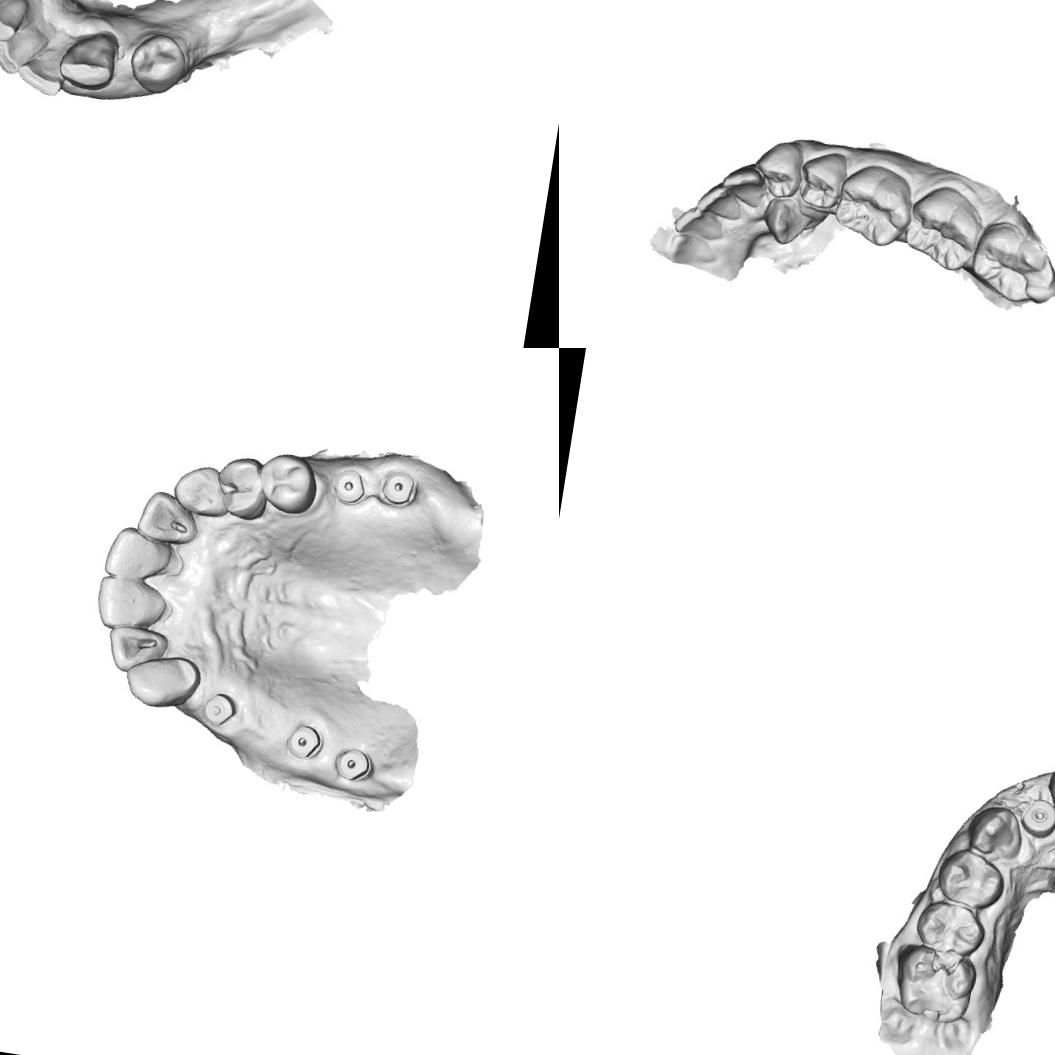canine: (120, 648, 202, 716), (55, 24, 123, 95), (962, 796, 1026, 864), (167, 460, 235, 521), (758, 190, 820, 250)
implant: (330, 742, 378, 786), (198, 688, 241, 733), (327, 465, 370, 508), (282, 722, 325, 763), (378, 468, 419, 509), (1019, 795, 1055, 836)
incisor: (89, 573, 173, 638), (133, 485, 204, 548), (101, 524, 175, 584), (102, 621, 172, 679), (13, 44, 72, 100), (0, 21, 45, 78), (718, 162, 769, 211), (671, 202, 728, 243), (694, 182, 747, 224), (0, 0, 30, 47)
molar: (829, 158, 920, 252), (900, 181, 990, 276), (965, 217, 1055, 308), (888, 941, 982, 1025)
premolar: (932, 844, 1008, 911), (252, 449, 324, 519), (123, 28, 192, 100), (913, 896, 987, 958), (210, 452, 272, 523), (751, 136, 807, 201), (796, 148, 850, 213)
